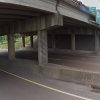Bridge: (10, 0, 97, 59)
